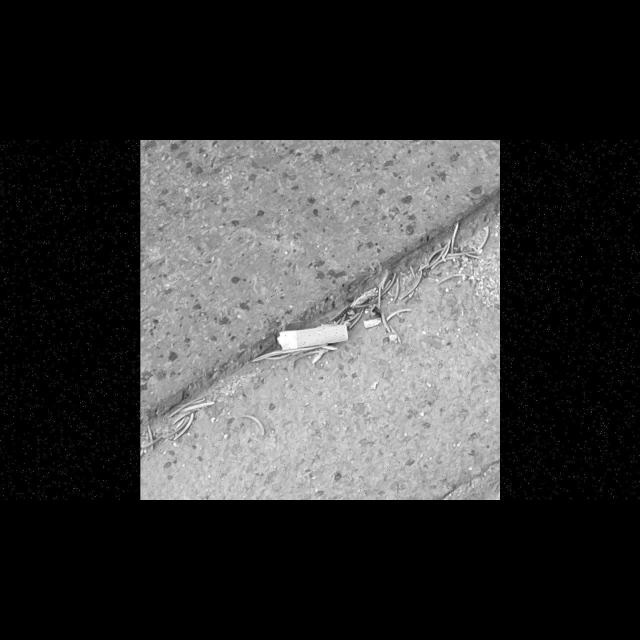cigarette: (276, 324, 348, 351)
